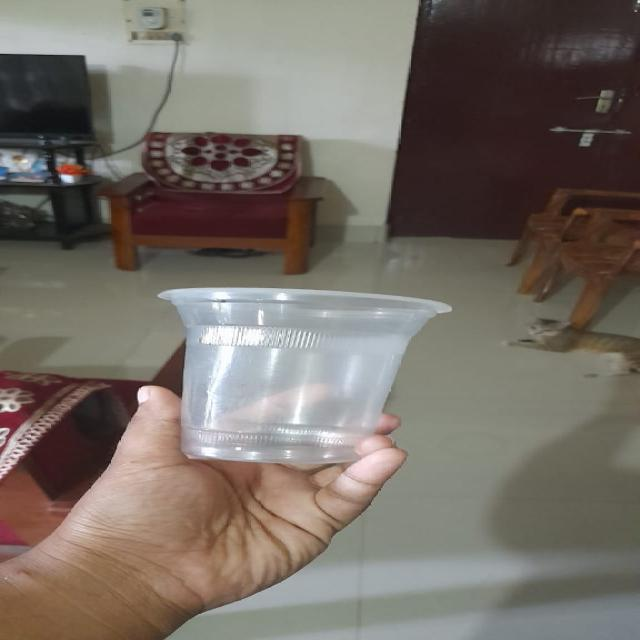Plastic - Recyclable: (153, 285, 454, 465)
